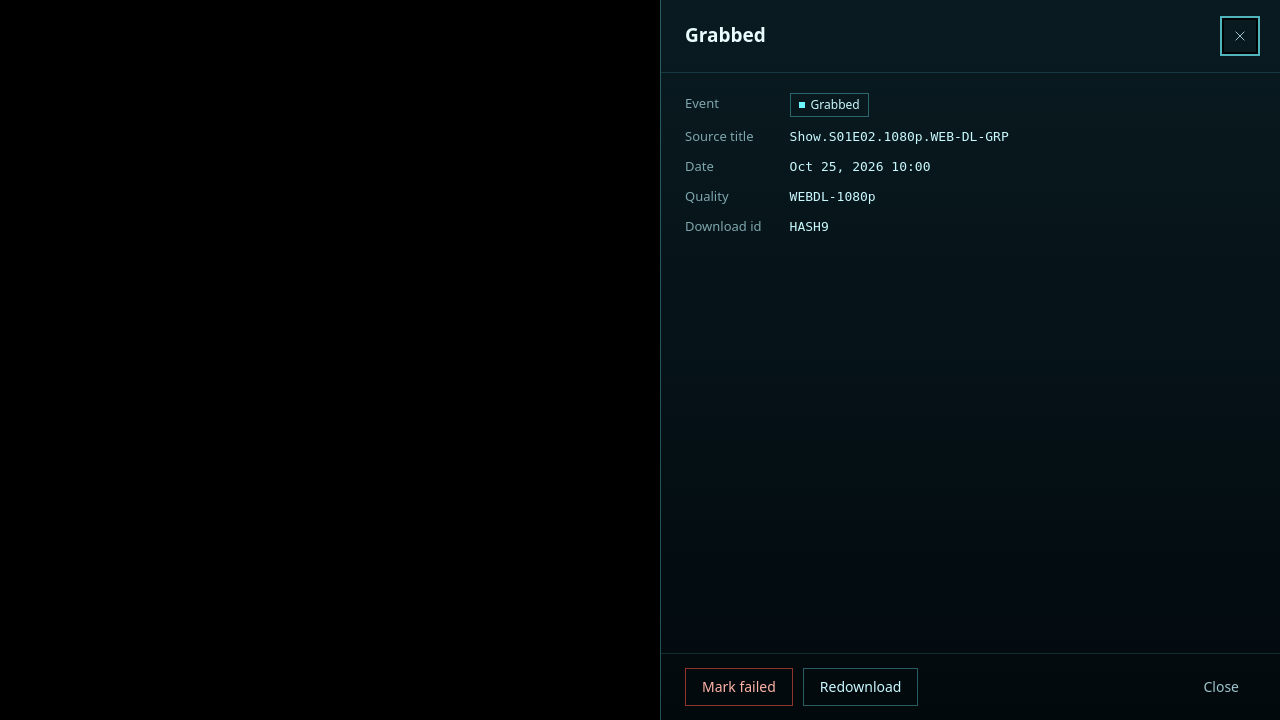
Test: history details drawer › offers Mark failed (danger) and Redownload (secondary); Redownload posts to the history route
Expected: the text "HASH9" is shown, [790, 219, 829, 234]
Click the button "Redownload" at (861, 687), box [803, 668, 918, 706]
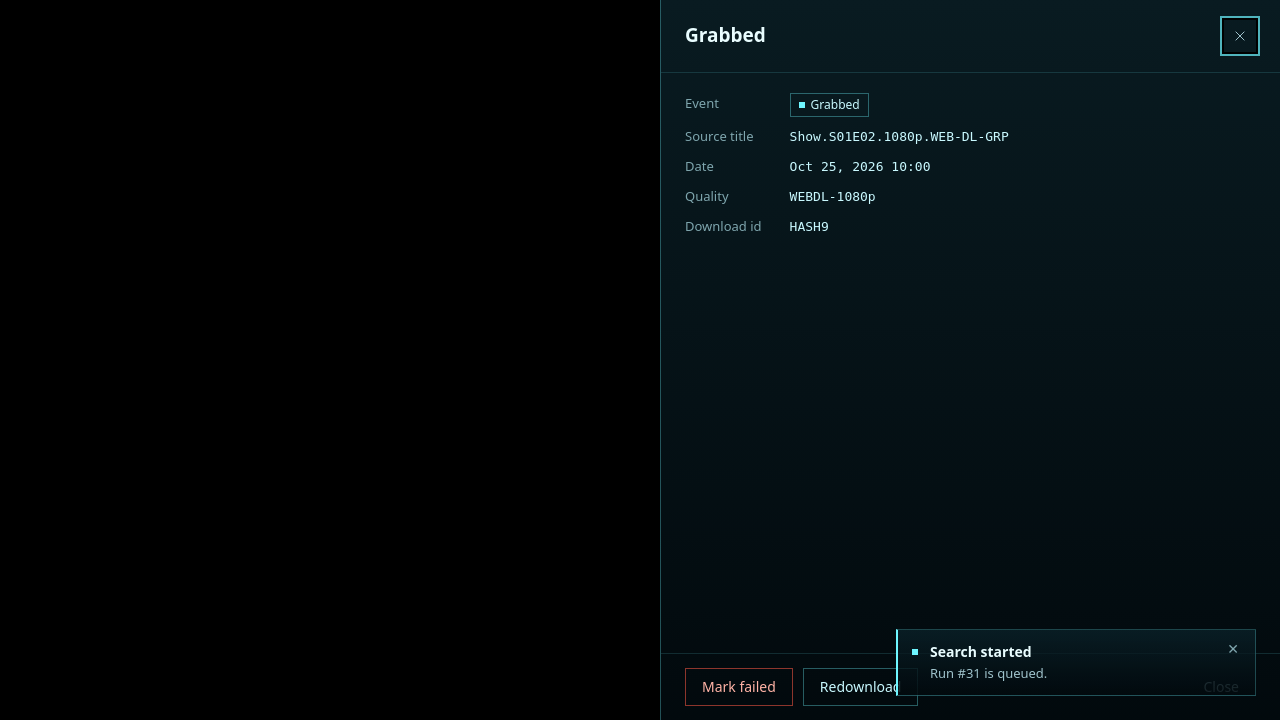
Expected: the text "Search started" is shown, [930, 642, 1032, 661]
Click the button "Mark failed" at (739, 687), box [685, 668, 793, 706]
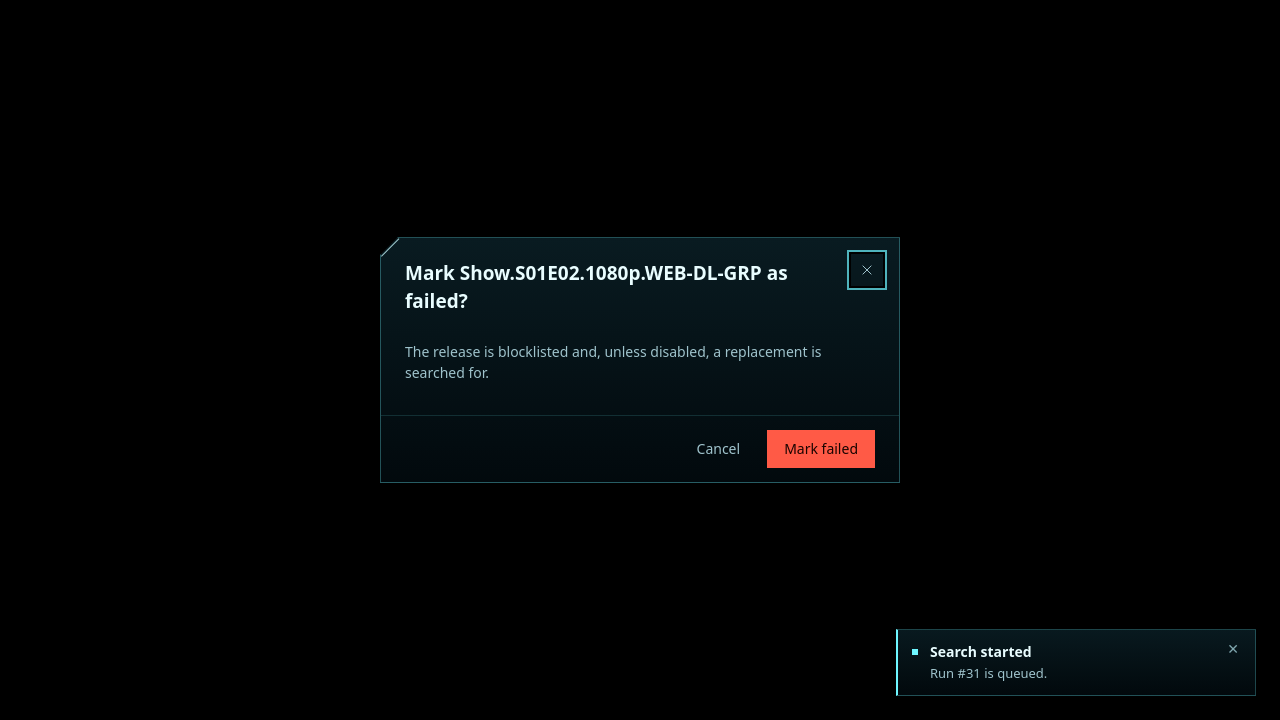
Expected: the dialog "Mark Show.S01E02.1080p.WEB-DL-GRP as failed?" is shown, [380, 237, 900, 483]
